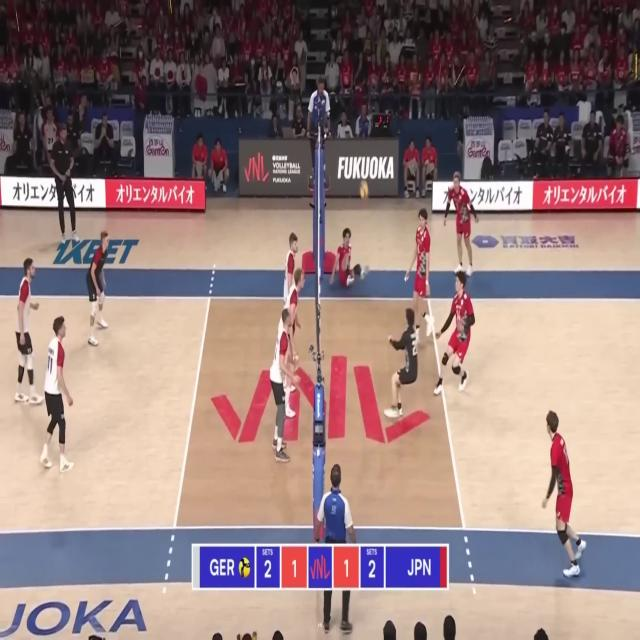referee: (314, 463, 357, 638)
team_one: (41, 315, 75, 474), (14, 257, 45, 405), (269, 308, 295, 462), (286, 268, 306, 420), (86, 230, 110, 351), (282, 231, 298, 310)
team_two: (542, 408, 586, 579), (434, 271, 476, 398), (404, 209, 434, 343), (384, 307, 418, 421), (444, 171, 481, 275), (327, 228, 369, 294)
